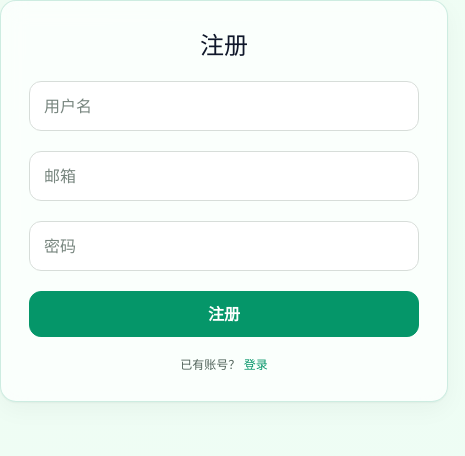
Test: RegisterPage › 用户名不足 2 个字符时阻止注册
Type "a" into the field labelled "用户名". click: (224, 106)
box: [29,81,419,131]
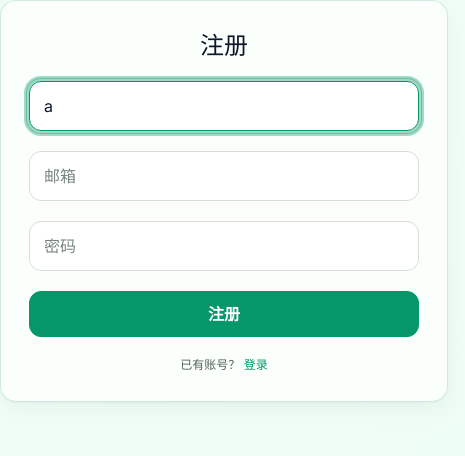
Type "user@example.com" into the field labelled "邮箱". click: (224, 176)
box: [29,151,419,201]
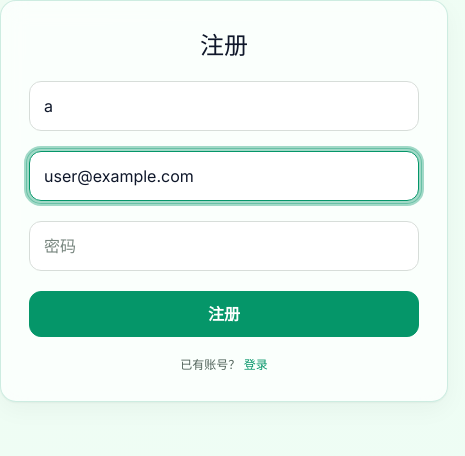
Type "123456" into the password field labelled "密码". click: (224, 246)
box: [29,221,419,271]
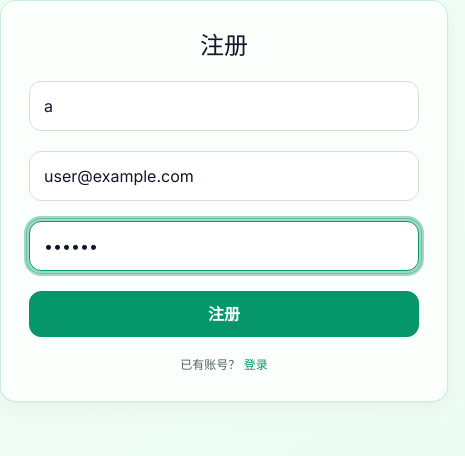
Click the button "注册". click: (224, 314)
box: [29,291,419,337]
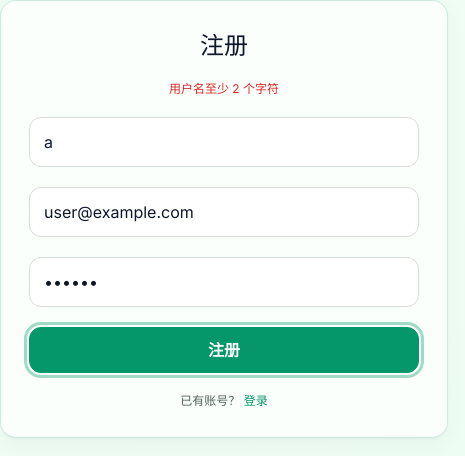
Now the message reads "用户名至少 2 个字符", box [169,81,279,96]
